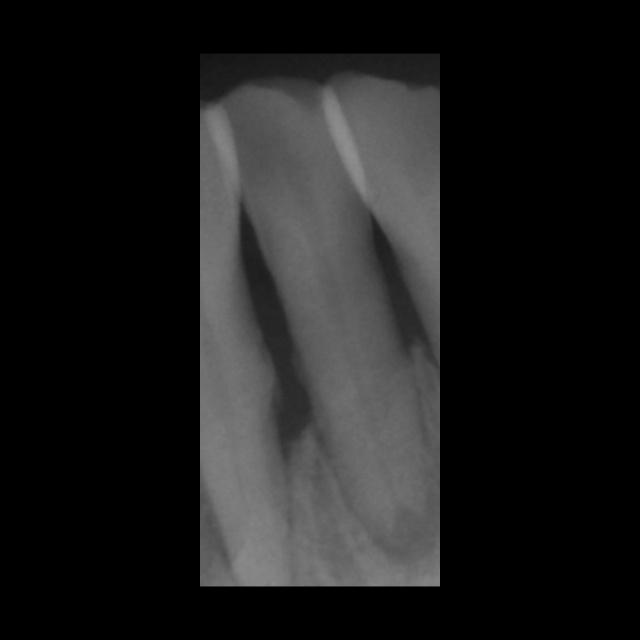tooth: (201, 75, 429, 557)
